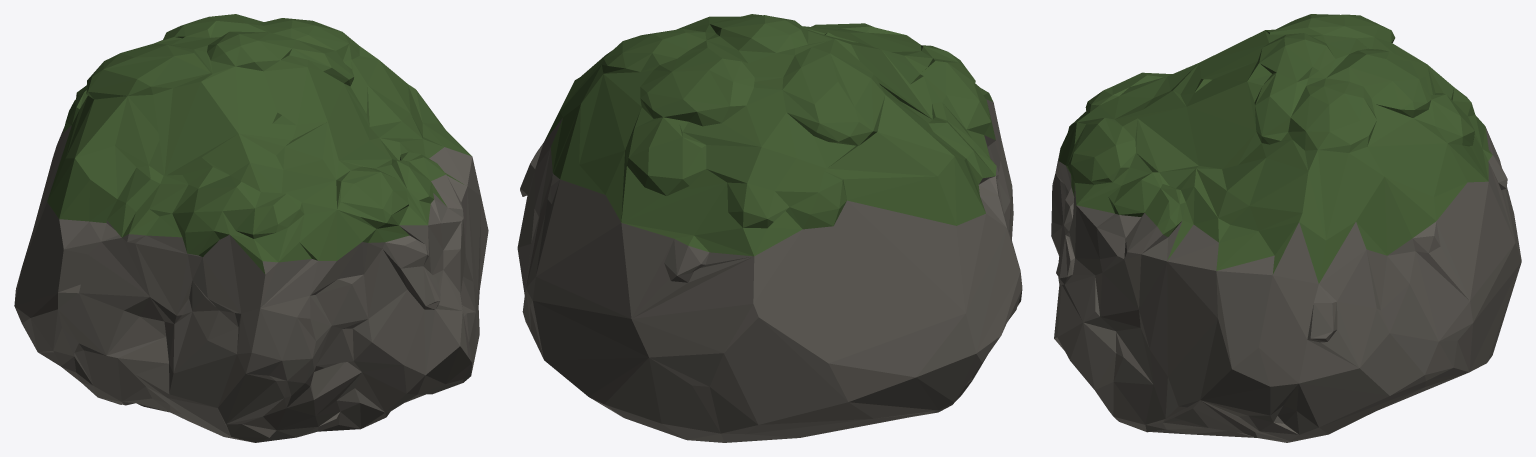
Rendered from rock-2.glb.
The picture shows the model from 3 angles, left to right: view 1: azimuth 30°, elevation 25°; view 2: azimuth 150°, elevation 25°; view 3: azimuth 270°, elevation 25°; orthographic projection. The views are drawn at different scales.
Parts seen in each view (by area): view 1: output_unwrapped; view 2: output_unwrapped; view 3: output_unwrapped.
Part boxes in pixels (left/top/right/bottom): output_unwrapped: left=14, top=14, right=488, bottom=442; output_unwrapped: left=517, top=14, right=1022, bottom=442; output_unwrapped: left=1051, top=14, right=1521, bottom=442.
Size of the model in its own units: 2 by 1.48 by 1.88.
